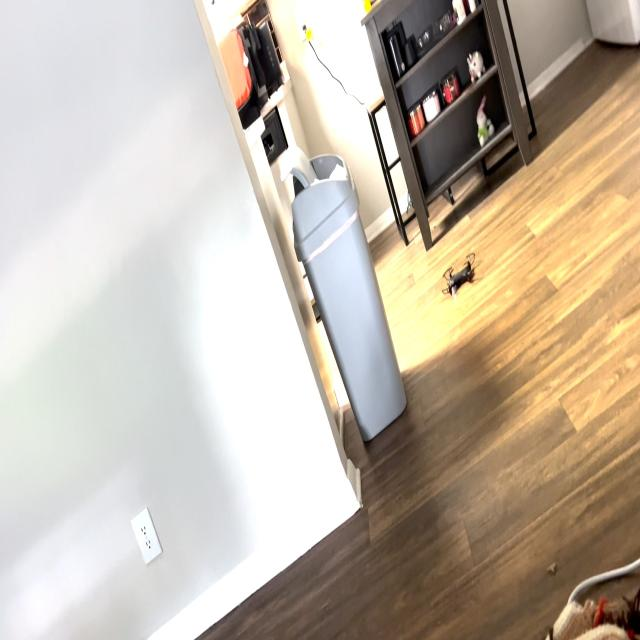drone: (437, 246, 487, 308)
